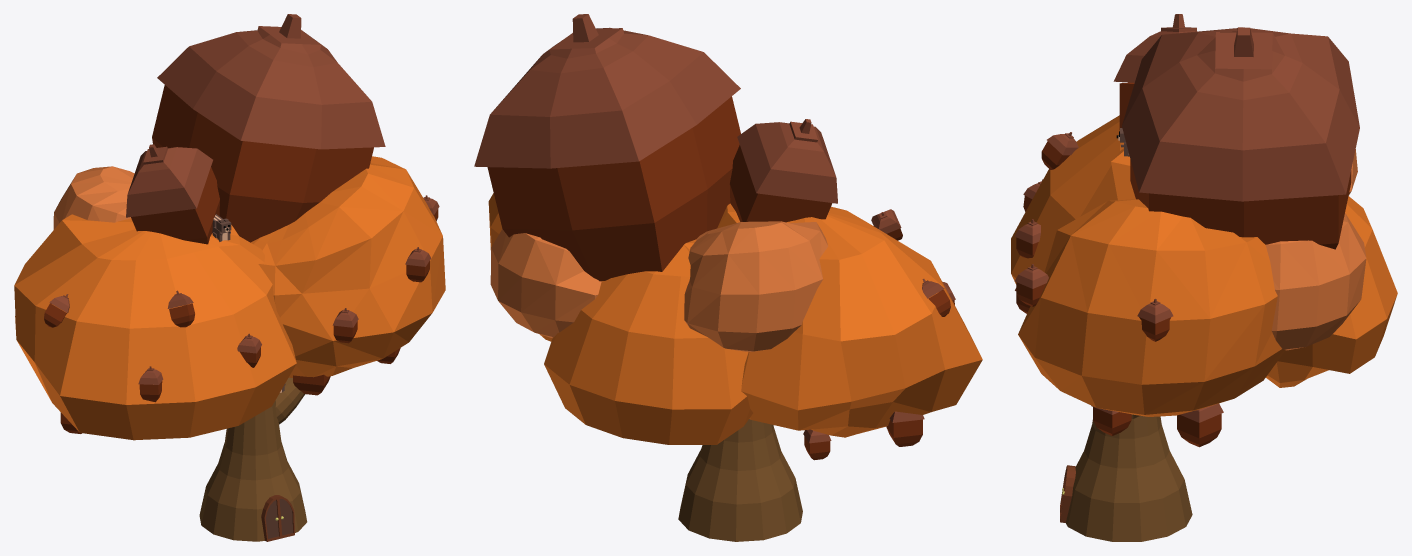
Rendered from dotoli_tree1.fbx.
3 renders of one model, left to right at view 1: azimuth 30°, elevation 25°; view 2: azimuth 150°, elevation 25°; view 3: azimuth 270°, elevation 25°, orthographic. The views are drawn at different scales.
Parts seen in each view (by area): view 1: Sphere.010, 도토리몸통.018, Sphere.009, Cylinder.003, Sphere.013, Circle.010, Circle.011; view 2: 도토리몸통.018, Sphere.010, Sphere.011, Sphere.013, Cylinder.003, Sphere.012; view 3: 도토리몸통.018, Sphere.009, Cylinder.003, Sphere.012, Sphere.010, Sphere.011, Circle.011.
Part boxes in pixels (box(x1,y1,x2,y2)): Sphere.010: box(14, 214, 296, 440); 도토리몸통.018: box(44, 14, 439, 433); Sphere.009: box(250, 156, 445, 377); Cylinder.003: box(199, 377, 307, 541); Sphere.013: box(53, 166, 134, 229); Circle.010: box(261, 495, 281, 541); Circle.011: box(275, 495, 294, 538); 도토리몸통.018: box(474, 14, 955, 460); Sphere.010: box(717, 203, 982, 437); Sphere.011: box(544, 239, 752, 444); Sphere.013: box(684, 221, 828, 351); Cylinder.003: box(678, 419, 802, 541); Sphere.012: box(490, 229, 601, 338); 도토리몸통.018: box(1015, 14, 1359, 447); Sphere.009: box(1018, 199, 1285, 416); Cylinder.003: box(1066, 414, 1192, 541); Sphere.012: box(1265, 213, 1366, 350); Sphere.010: box(1011, 115, 1135, 284); Sphere.011: box(1266, 196, 1397, 387); Circle.011: box(1060, 466, 1075, 522).
Bounding box in the file's own units: 2486 × 2659 × 1731.
